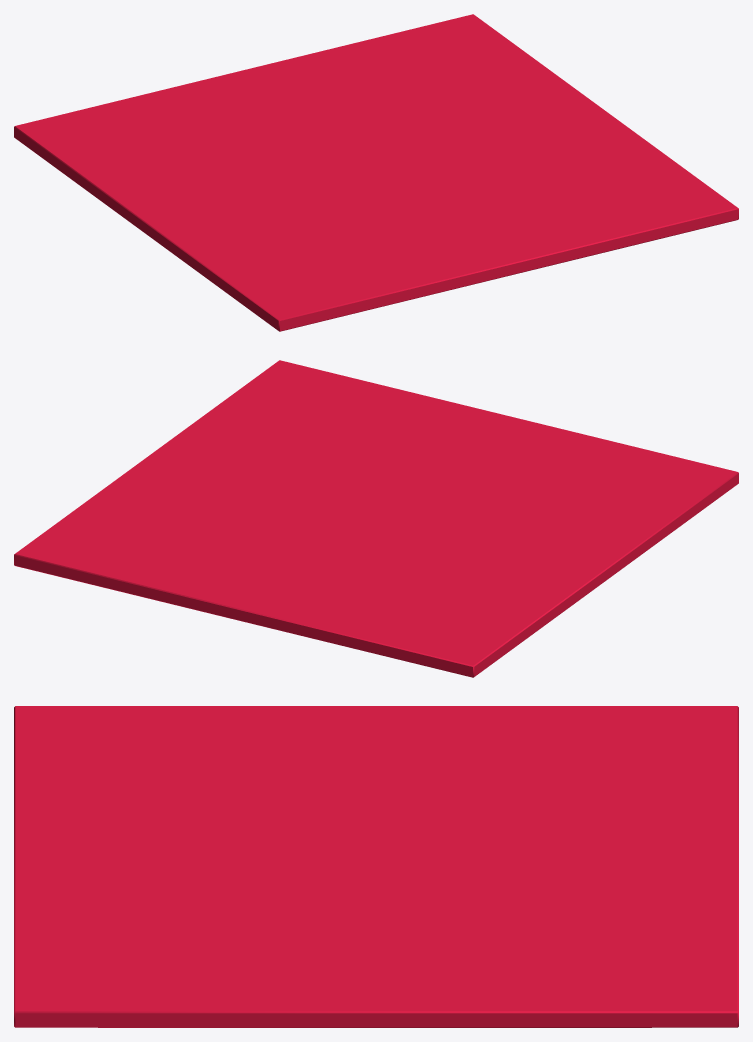
The model's file is Scifi2_Ceiling_Light3.fbx.
3 views of the same model, one above another, from view 1: azimuth 30°, elevation 25°; view 2: azimuth 150°, elevation 25°; view 3: azimuth 270°, elevation 25° (orthographic). The views are drawn at different scales.
Visible parts, largest first — view 1: Ceiling_Light; view 2: Ceiling_Light; view 3: Ceiling_Light.
Boxes of the visible parts, x1=… form: Ceiling_Light: x1=14, y1=14, x2=738, y2=331; Ceiling_Light: x1=14, y1=360, x2=738, y2=677; Ceiling_Light: x1=14, y1=706, x2=738, y2=1027.
Bounding box in the file's own units: 800 × 29.53 × 800.
